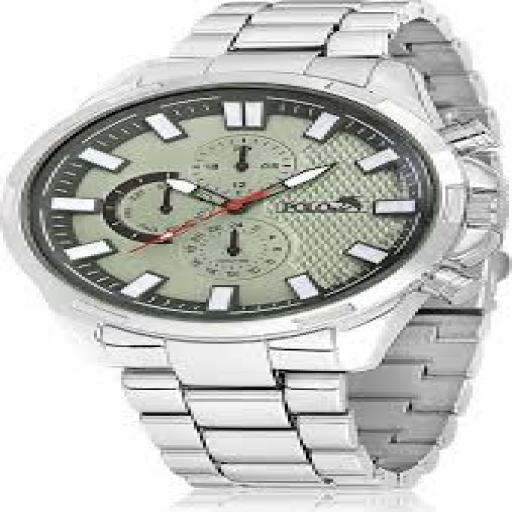KolSaati: (1, 0, 499, 495)
